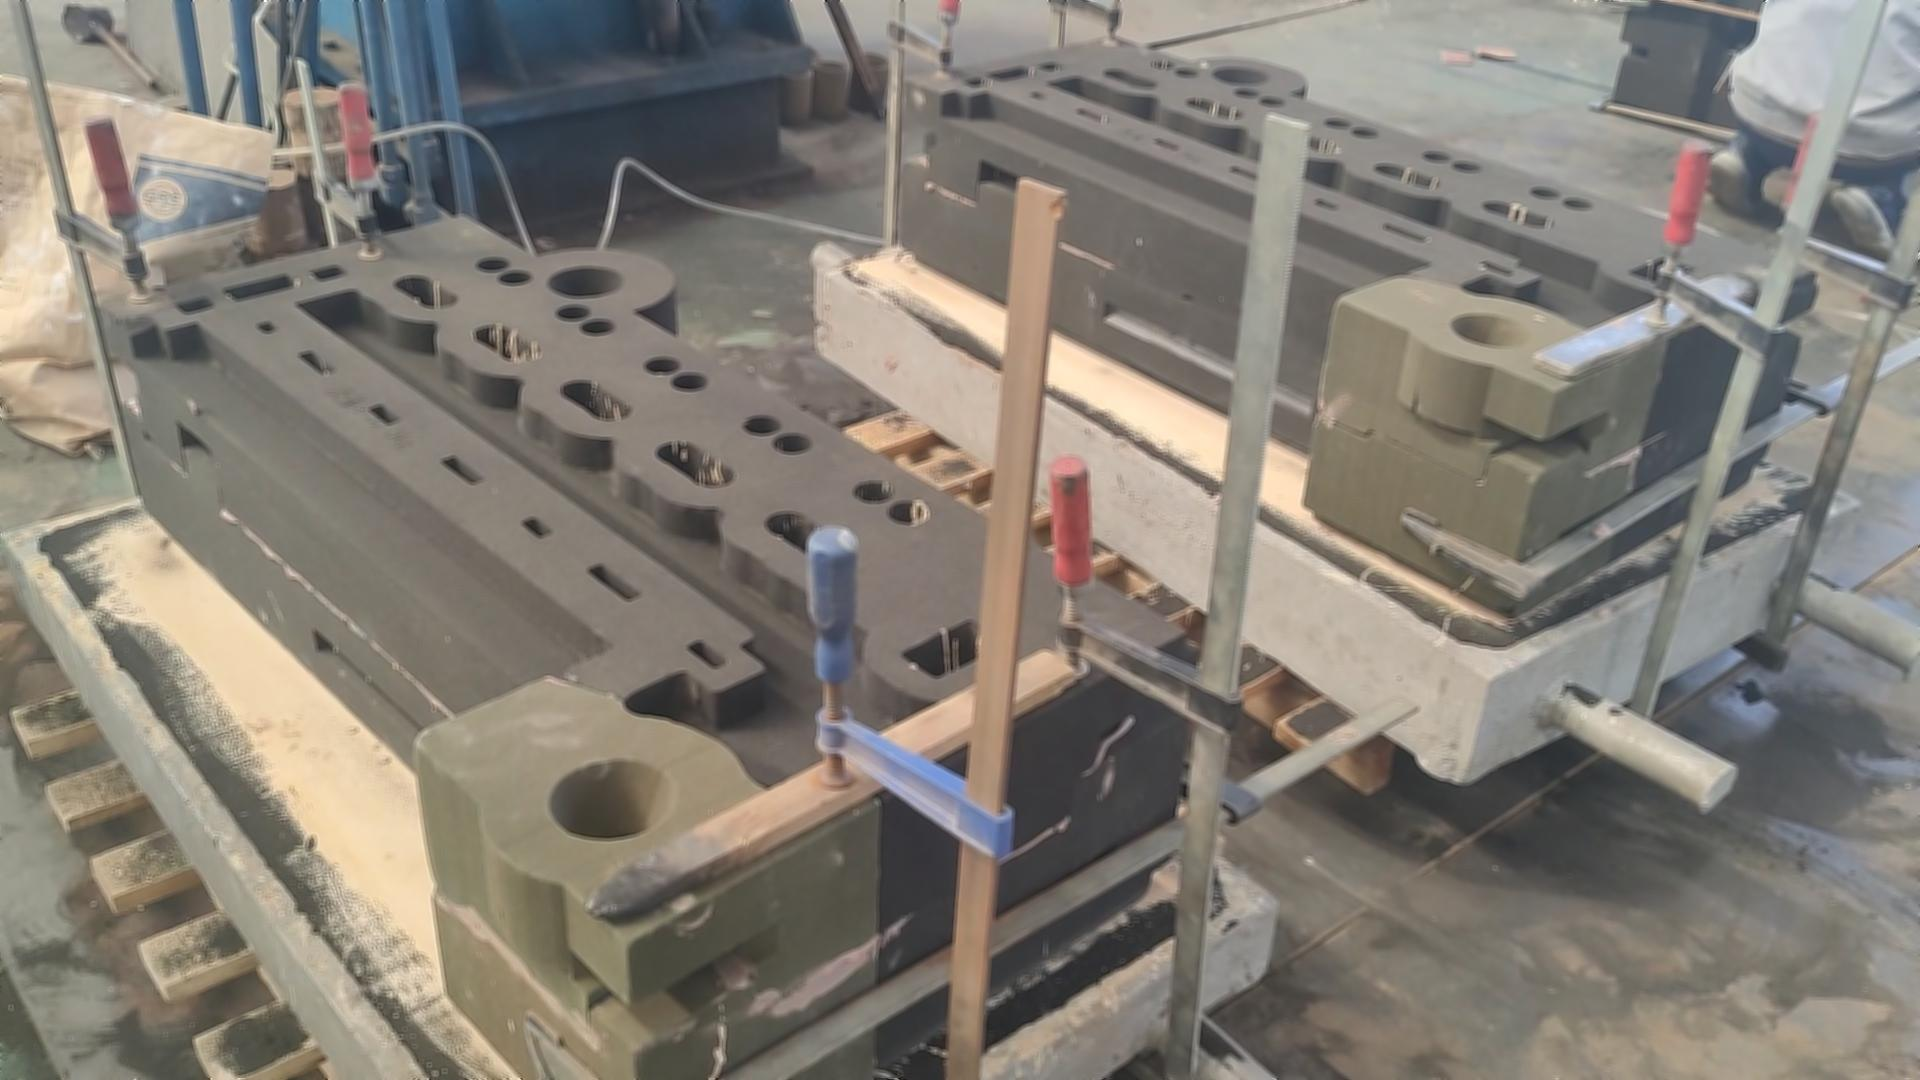pouring hole: (547, 760, 676, 839), (1448, 313, 1534, 347), (549, 266, 626, 297), (1209, 65, 1271, 84), (855, 51, 891, 69), (781, 42, 818, 59), (775, 65, 814, 78), (812, 59, 847, 73)
